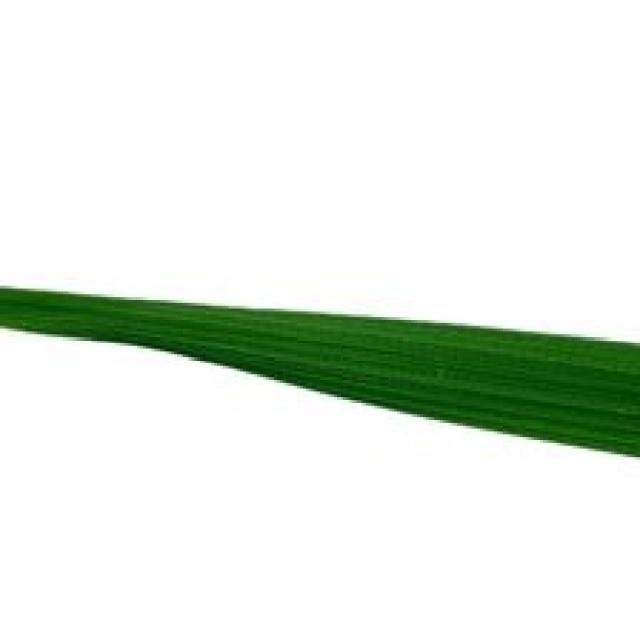Rice___Healthy_Rice_Plant: (0, 284, 637, 459)
